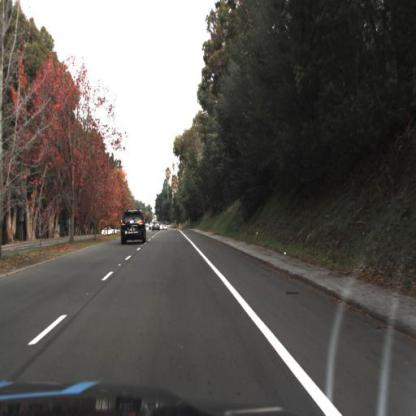car: (115, 208, 146, 251), (101, 223, 119, 242), (150, 217, 163, 236)
